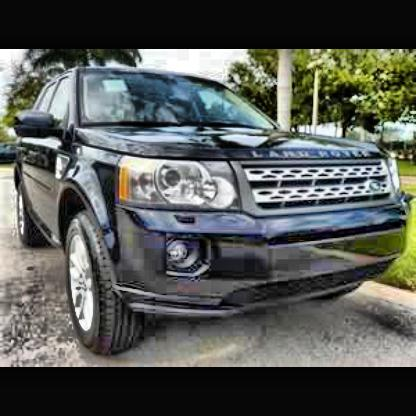Land Rover LR2 SUV 2012: (14, 69, 411, 358)
